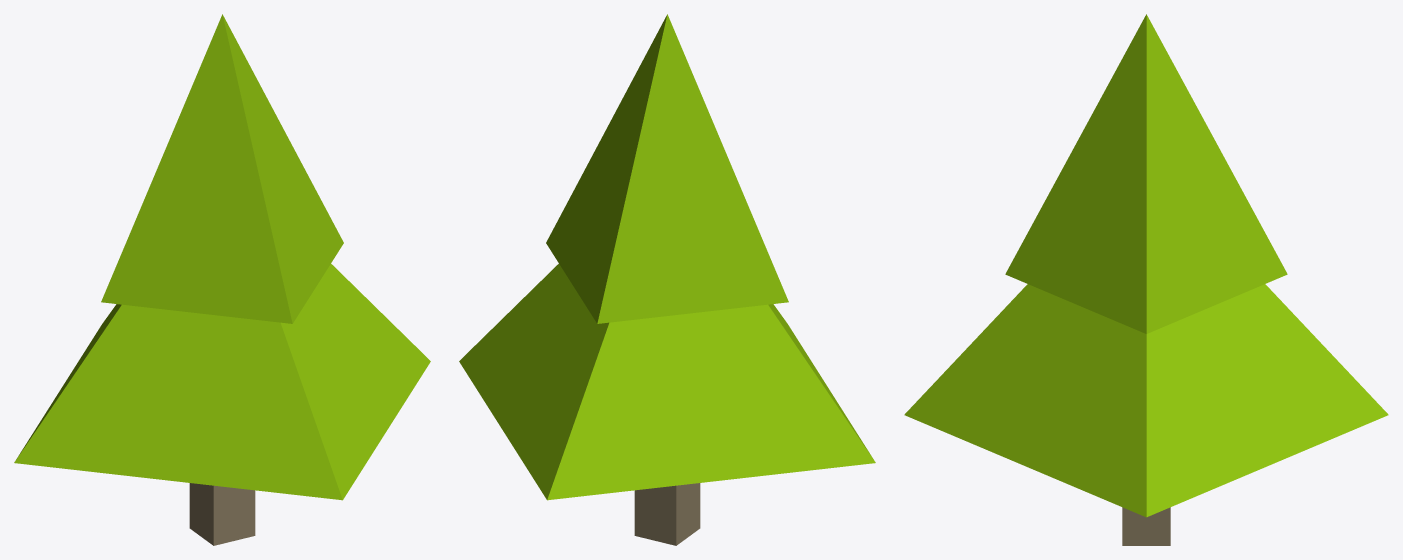
Rendered from pine_13.fbx.
3 renders of one model, left to right at view 1: azimuth 30°, elevation 25°; view 2: azimuth 150°, elevation 25°; view 3: azimuth 270°, elevation 25°, orthographic.
Parts seen in each view (by area): view 1: pine_13; view 2: pine_13; view 3: pine_13.
Part boxes in pixels (x1,y1,x2,y2): pine_13: (14, 14, 430, 545); pine_13: (459, 14, 875, 545); pine_13: (904, 14, 1388, 545).
Bounding box in the file's own units: 121 × 144 × 121.
